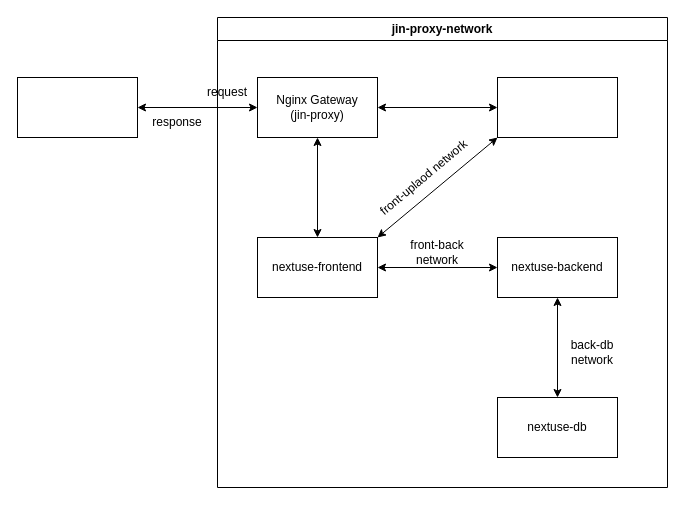
The diagram is 685 pixels wide and 505 high, and some of its shapes have lost their labels. The shapes that lost their labels are listed below. From the top down, each one's centre as x and y in pixels, then its label:
At point 77,107: "client".
At point 557,107: "nextuse-upload-server".
